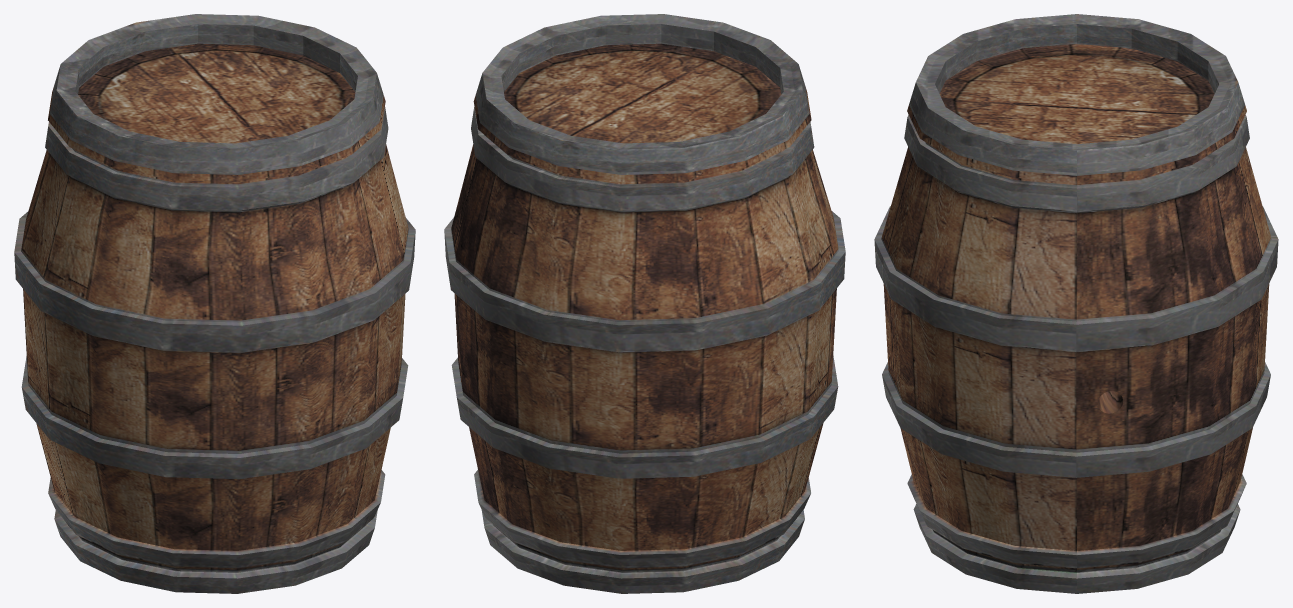
Rendered from barrels-06.FBX.
3 views of the same model, side by side, from view 1: azimuth 30°, elevation 25°; view 2: azimuth 150°, elevation 25°; view 3: azimuth 270°, elevation 25° (orthographic).
Parts seen in each view (by area): view 1: Line001; view 2: Line001; view 3: Line001.
Boxes of the visible parts, x1,y1,x2,y2 form: Line001: (14,14,415,593); Line001: (444,14,845,593); Line001: (874,14,1278,593).
Bounding box in the file's own units: 30.36 × 36.92 × 30.36.
Materials: 1 (1 with a texture image).
